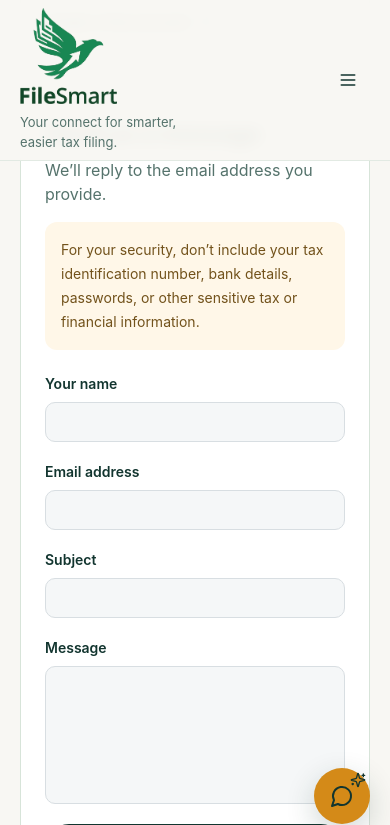
Contact page › shows the clickable support email and sends the completed inquiry
(page scrolled)
Expected: the text "tax identification number" is shown, [61,241,324,330]
Type "Ada Okafor" into the field labelled "Your name". click: (195, 422)
box: [45,402,345,442]
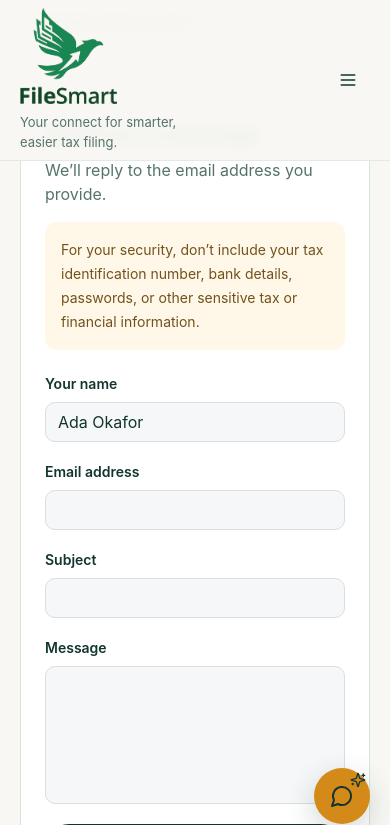
Type "ada@example.com" into the field labelled "Email address". click: (195, 510)
box: [45,490,345,530]
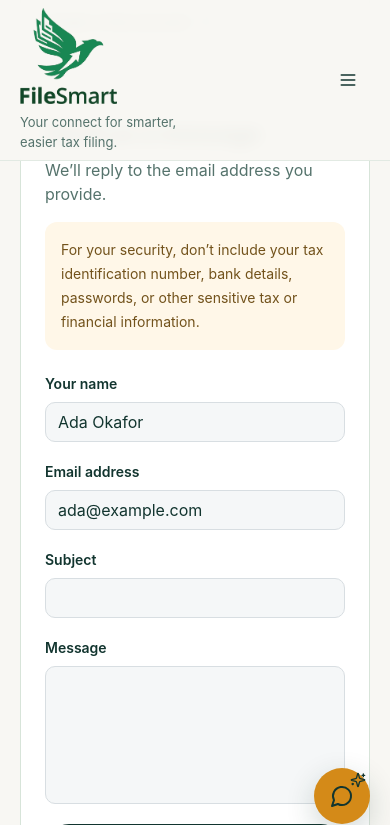
Type "Account question" into the field labelled "Subject". click: (195, 598)
box: [45,578,345,618]
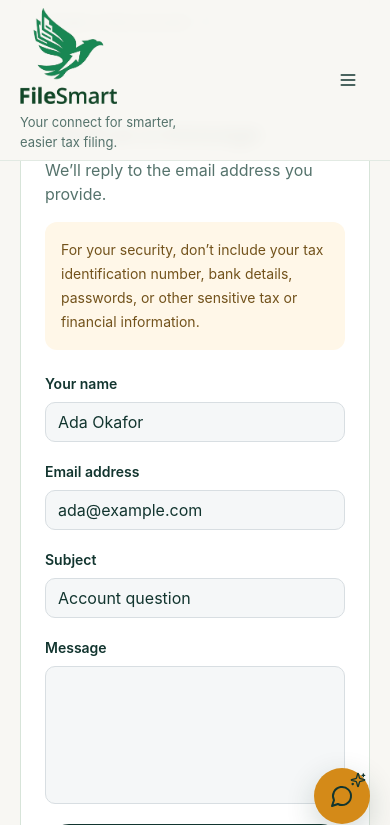
Type "I need help understanding how to get started." into the text box labelled "Message". click: (195, 735)
box: [45,666,345,804]
(page scrolled)
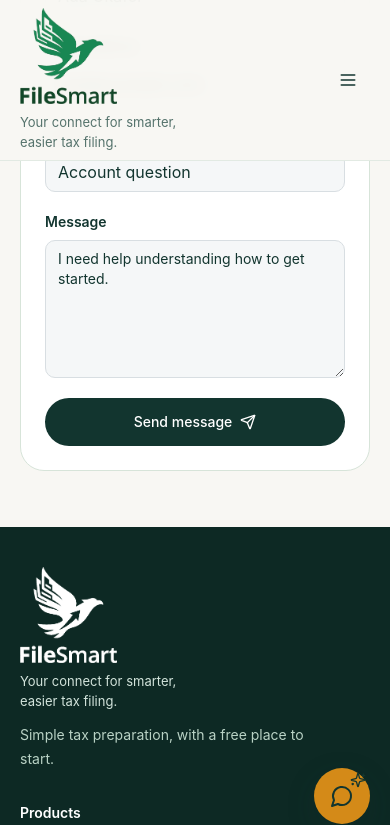
Click the button "Send message". click: (195, 422)
box: [45,398,345,446]
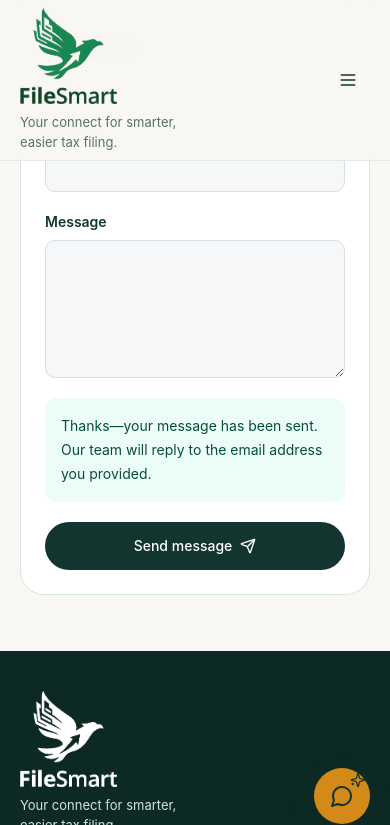
Now the message shows "message has been sent", box [61,417,322,482]
